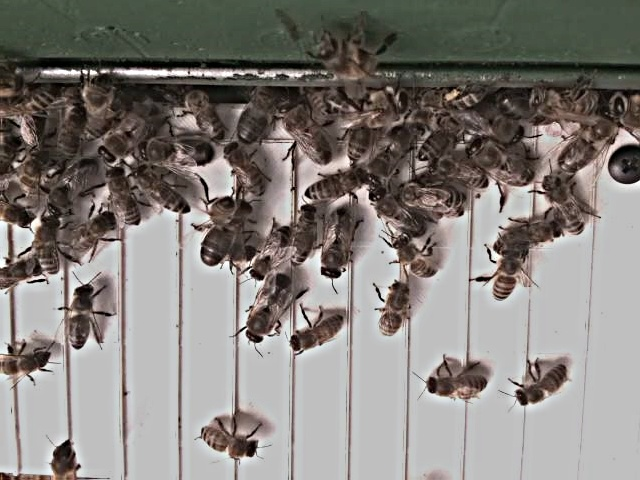Drone: (194, 201, 254, 272), (240, 273, 296, 348), (274, 100, 334, 170), (462, 139, 538, 192), (316, 207, 355, 283), (135, 135, 218, 169)
Worker: (539, 173, 588, 239), (128, 169, 194, 217), (510, 366, 570, 411), (386, 233, 438, 284), (247, 224, 290, 285), (219, 141, 263, 199), (286, 314, 345, 356), (374, 280, 413, 341), (65, 282, 97, 355), (104, 169, 142, 230), (197, 425, 261, 461), (299, 167, 358, 206), (423, 370, 488, 404), (33, 215, 63, 281), (490, 251, 523, 306), (290, 207, 317, 270)
